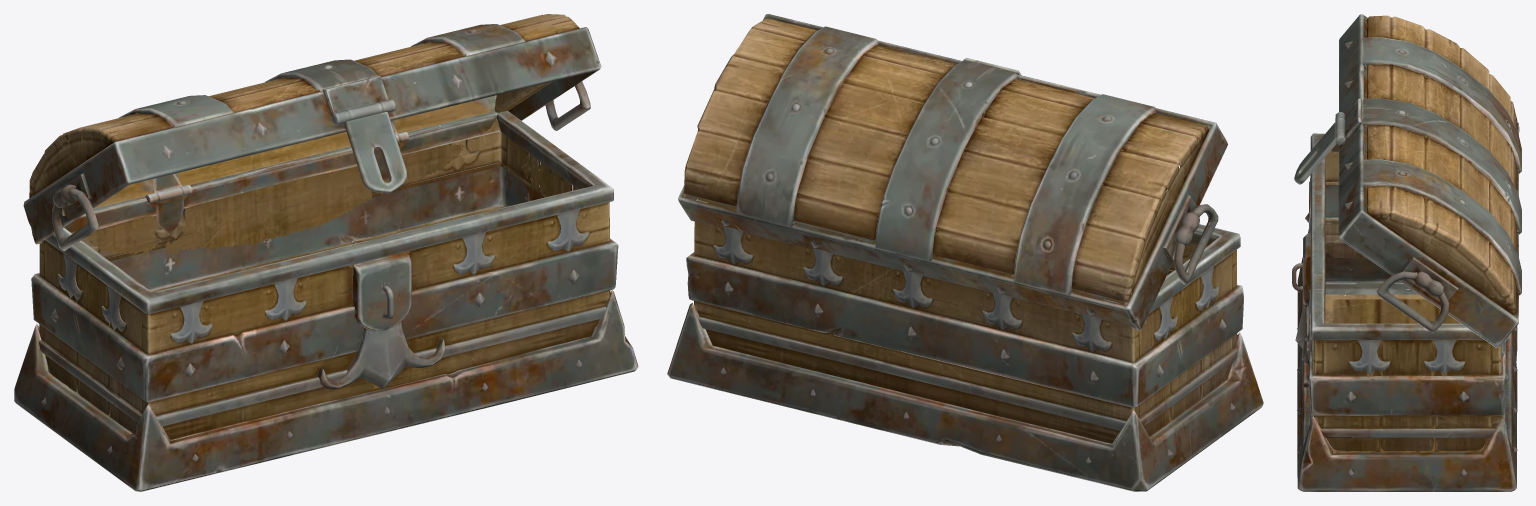
3 views of the same model, side by side, from view 1: azimuth 30°, elevation 25°; view 2: azimuth 150°, elevation 25°; view 3: azimuth 270°, elevation 25° (orthographic). The views are drawn at different scales.
Parts seen in each view (by area): view 1: SM_Loot_Chest_02_LOD0; view 2: SM_Loot_Chest_02_LOD0; view 3: SM_Loot_Chest_02_LOD0.
Boxes of the visible parts, left/top/right/bottom form: SM_Loot_Chest_02_LOD0: left=14, top=14, right=638, bottom=491; SM_Loot_Chest_02_LOD0: left=667, top=14, right=1263, bottom=491; SM_Loot_Chest_02_LOD0: left=1292, top=14, right=1521, bottom=491.
Bounding box in the file's own units: 1.85 × 1.13 × 0.845.
1 material, 1 textured.
